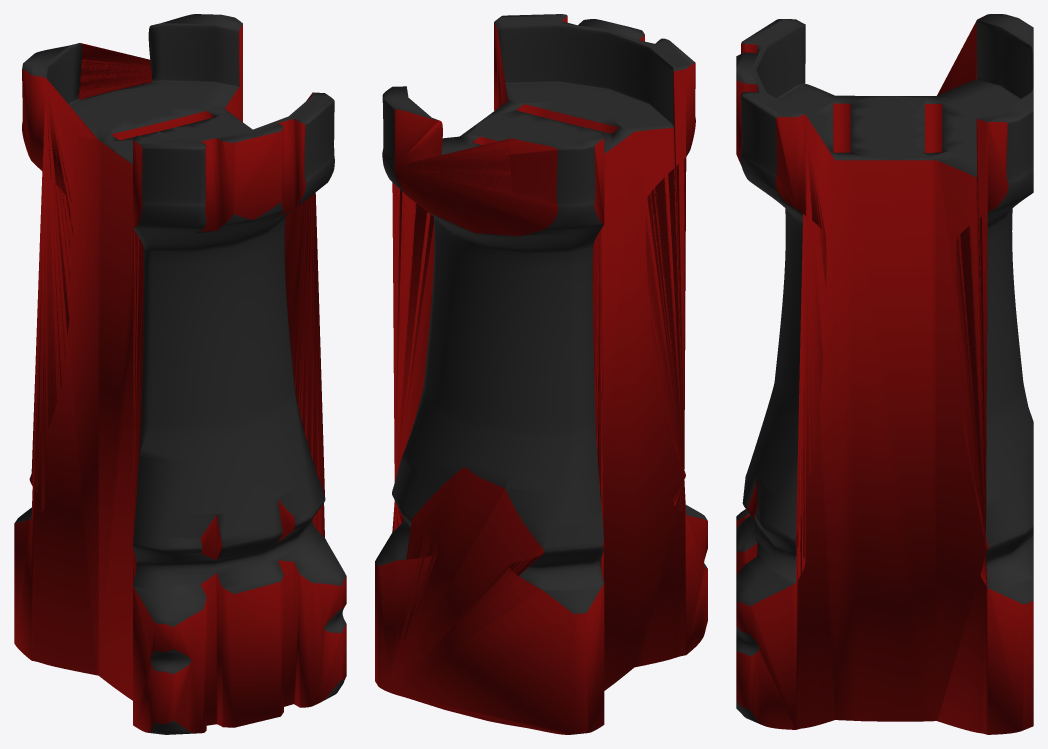
The model's file is BlackRook.fbx.
The picture shows the model from 3 angles, left to right: view 1: azimuth 30°, elevation 25°; view 2: azimuth 150°, elevation 25°; view 3: azimuth 270°, elevation 25°; orthographic projection. The views are drawn at different scales.
Parts seen in each view (by area): view 1: Rook.001; view 2: Rook.001; view 3: Rook.001.
Part boxes in pixels (x1,y1,x2,y2): Rook.001: [14, 14, 346, 734]; Rook.001: [375, 14, 707, 734]; Rook.001: [736, 14, 1033, 734].
Bounding box in the file's own units: 44.04 × 119 × 51.24.
